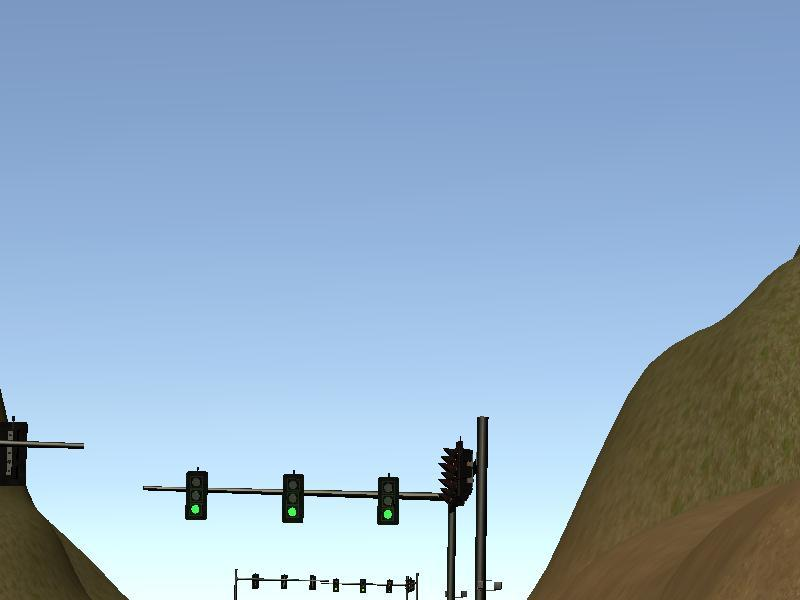Green: (283, 474, 306, 523), (186, 471, 208, 518), (378, 478, 399, 524)
